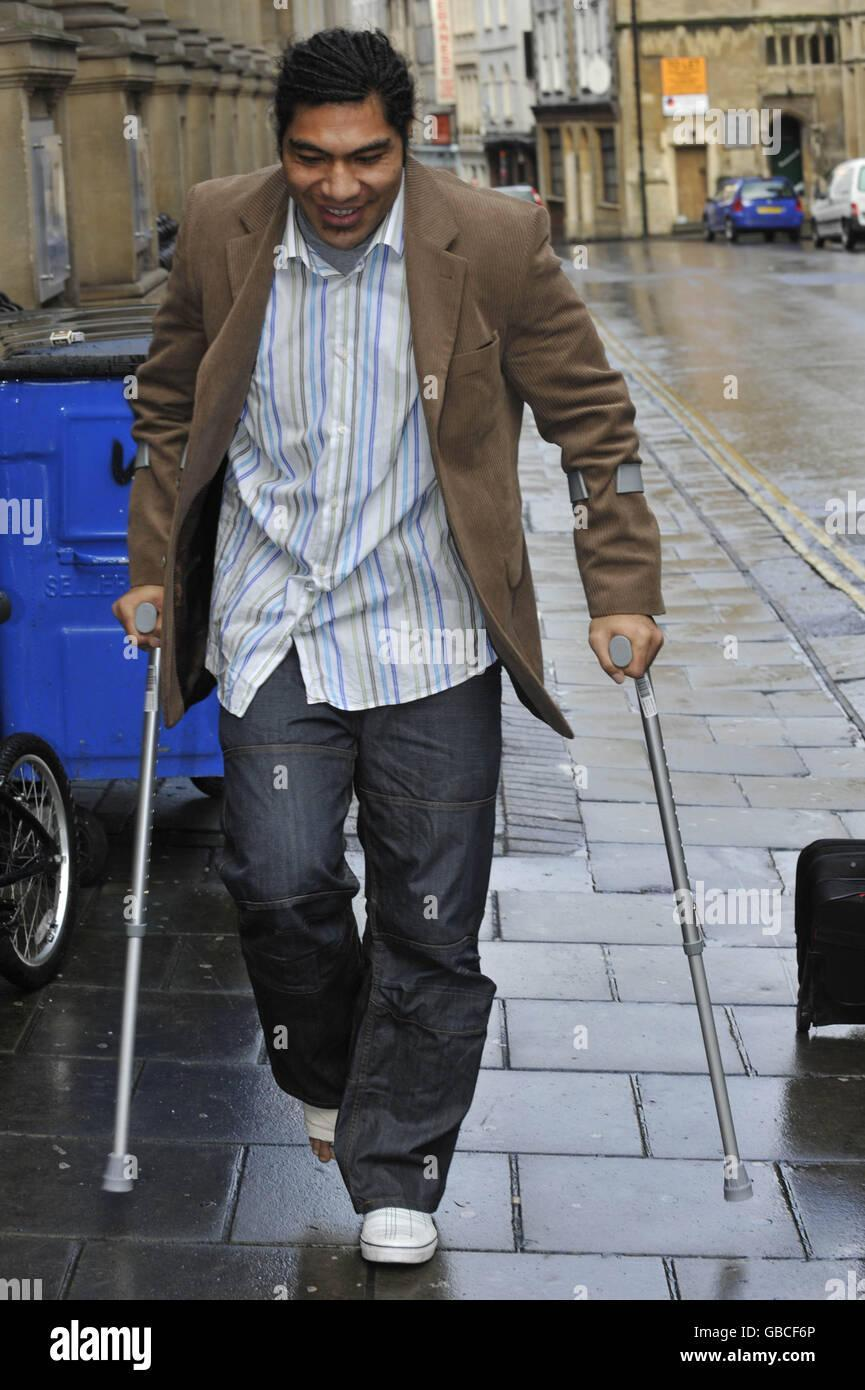crutches: (90, 18, 768, 1220)
